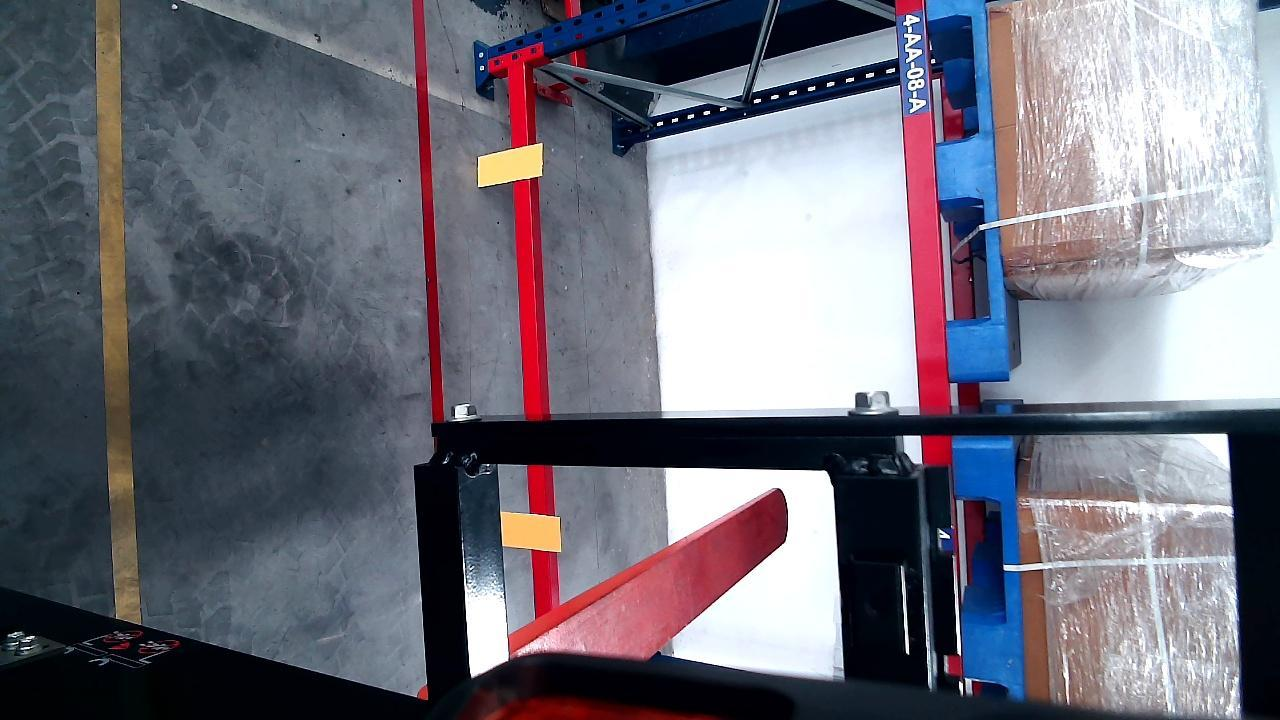red_line: (414, 0, 446, 429)
